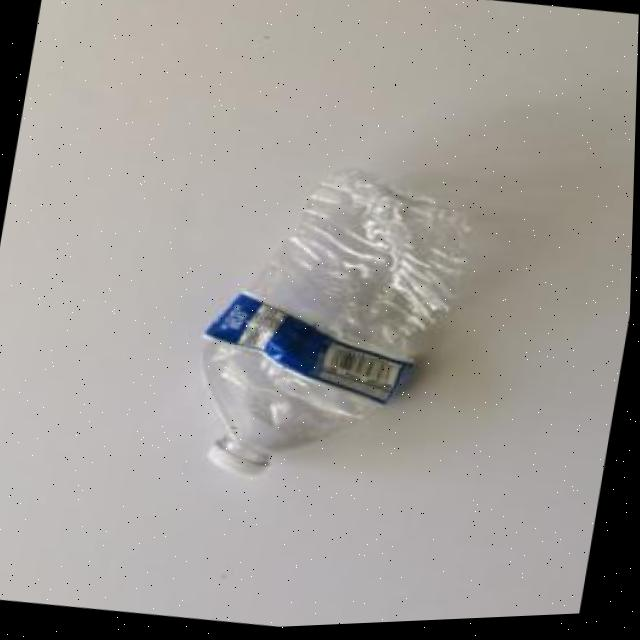plastic: (164, 144, 493, 516)
